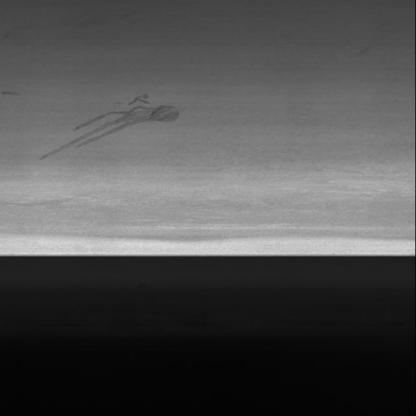water_spot: (27, 89, 189, 166)
